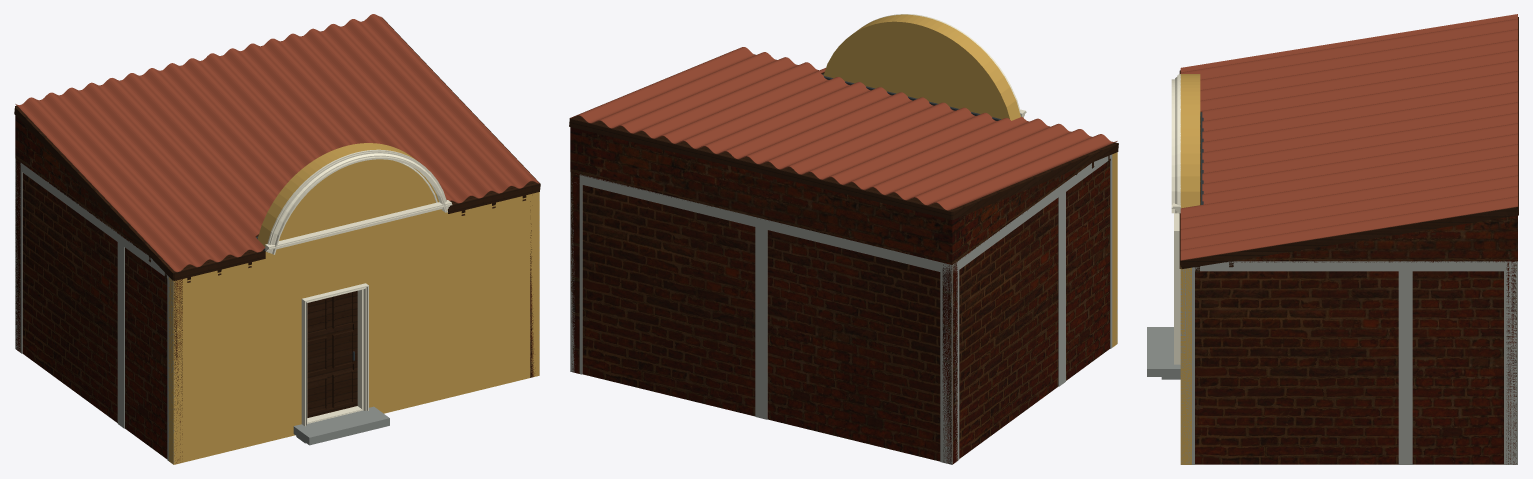
File: building.glb
3 views of the same model, side by side, from view 1: azimuth 30°, elevation 25°; view 2: azimuth 150°, elevation 25°; view 3: azimuth 270°, elevation 25° (orthographic). The views are drawn at different scales.
Parts seen in each view (by area): view 1: house:0/edge0/z0/house:0/edge0/z0/wall_0_0, house:0/edge3/z0/house:0/edge3/z0/wall_0_0, crown/fronton/crown_body#0001, roof_assembly/cubierta/roof_gable_closure#0005, crown/fronton/crown_moulding#0001, site/entrance/0/entrance_step#0002, roof_assembly/cubierta/roof_fascia#0002, crown/fronton/crown_base_cornice#0001, house:0/edge3/z0/house:0/edge3/z0/column_2_0, house:0/edge3/z0/house:0/edge3/z0/beam_0_0, house:0/edge0/z0/opening_u2.80_v0.12/door_panel_back#0001, house:0/edge0/z0/opening_u2.80_v0.12/door_reveal#0001 (+14 smaller); view 2: house:0/edge2/z0/house:0/edge2/z0/wall_0_0, house:0/edge3/z0/house:0/edge3/z0/wall_0_0, roof_assembly/cubierta/roof_gable_closure#0004, crown/fronton/crown_body#0001, house:0/edge2/z0/house:0/edge2/z0/beam_0_0, roof_assembly/cubierta/roof_fascia#0001, roof_assembly/cubierta/roof_gable_closure#0005, house:0/edge2/z0/house:0/edge2/z0/column_2_0, house:0/edge2/z0/house:0/edge2/z0/column_1_0, house:0/edge1/z0/house:0/edge1/z0/wall_0_0, roof_assembly/cubierta/roof_fascia#0002, house:0/edge3/z0/house:0/edge3/z0/beam_0_0 (+6 smaller); view 3: house:0/edge1/z0/house:0/edge1/z0/wall_0_0, roof_assembly/cubierta/roof_gable_closure#0003, house:0/edge1/z0/house:0/edge1/z0/beam_0_0, roof_assembly/cubierta/roof_fascia#0005, house:0/edge1/z0/house:0/edge1/z0/column_2_0, house:0/edge1/z0/house:0/edge1/z0/column_1_0, house:0/edge0/z0/house:0/edge0/z0/wall_0_0, crown/fronton/crown_body#0001, house:0/edge1/z0/house:0/edge1/z0/column_0_0, site/entrance/0/entrance_step#0002, crown/fronton/crown_moulding#0001, house:0/edge2/z0/house:0/edge2/z0/wall_0_0 (+2 smaller).
Part boxes in pixels (box(x1,y1,x2,y2)): house:0/edge0/z0/house:0/edge0/z0/wall_0_0: box(168, 192, 539, 464); house:0/edge3/z0/house:0/edge3/z0/wall_0_0: box(22, 173, 182, 462); crown/fronton/crown_body#0001: box(257, 143, 438, 246); roof_assembly/cubierta/roof_gable_closure#0005: box(19, 120, 149, 256); crown/fronton/crown_moulding#0001: box(266, 149, 448, 254); site/entrance/0/entrance_step#0002: box(293, 406, 389, 445); roof_assembly/cubierta/roof_fascia#0002: box(14, 107, 174, 280); crown/fronton/crown_base_cornice#0001: box(265, 200, 452, 251); house:0/edge3/z0/house:0/edge3/z0/column_2_0: box(117, 242, 124, 428); house:0/edge3/z0/house:0/edge3/z0/beam_0_0: box(15, 163, 174, 282); house:0/edge0/z0/opening_u2.80_v0.12/door_panel_back#0001: box(307, 297, 352, 408); house:0/edge0/z0/opening_u2.80_v0.12/door_reveal#0001: box(301, 283, 365, 423); house:0/edge2/z0/house:0/edge2/z0/wall_0_0: box(582, 185, 957, 464); house:0/edge3/z0/house:0/edge3/z0/wall_0_0: box(942, 161, 1109, 464); roof_assembly/cubierta/roof_gable_closure#0004: box(578, 129, 956, 264); crown/fronton/crown_body#0001: box(823, 15, 1019, 120); house:0/edge2/z0/house:0/edge2/z0/beam_0_0: box(574, 174, 952, 274); roof_assembly/cubierta/roof_fascia#0001: box(569, 118, 952, 219); roof_assembly/cubierta/roof_gable_closure#0005: box(956, 163, 1091, 261); house:0/edge2/z0/house:0/edge2/z0/column_2_0: box(755, 227, 767, 419); house:0/edge2/z0/house:0/edge2/z0/column_1_0: box(940, 272, 952, 464); house:0/edge1/z0/house:0/edge1/z0/wall_0_0: box(571, 172, 579, 373); roof_assembly/cubierta/roof_fascia#0002: box(952, 143, 1118, 219); house:0/edge3/z0/house:0/edge3/z0/beam_0_0: box(951, 154, 1112, 274); house:0/edge1/z0/house:0/edge1/z0/wall_0_0: box(1195, 271, 1503, 464); roof_assembly/cubierta/roof_gable_closure#0003: box(1226, 215, 1517, 262); house:0/edge1/z0/house:0/edge1/z0/beam_0_0: box(1181, 261, 1517, 271); roof_assembly/cubierta/roof_fascia#0005: box(1180, 207, 1518, 268); house:0/edge1/z0/house:0/edge1/z0/column_2_0: box(1398, 271, 1412, 464); house:0/edge1/z0/house:0/edge1/z0/column_1_0: box(1504, 271, 1517, 464); house:0/edge0/z0/house:0/edge0/z0/wall_0_0: box(1180, 266, 1191, 464); crown/fronton/crown_body#0001: box(1184, 74, 1200, 207); house:0/edge1/z0/house:0/edge1/z0/column_0_0: box(1180, 271, 1194, 464); site/entrance/0/entrance_step#0002: box(1147, 327, 1180, 376); crown/fronton/crown_moulding#0001: box(1171, 74, 1180, 213); house:0/edge2/z0/house:0/edge2/z0/wall_0_0: box(1506, 261, 1516, 464).
Bounding box in the file's own units: 8.03 × 5.64 × 6.62.
9 materials, 2 textured.
